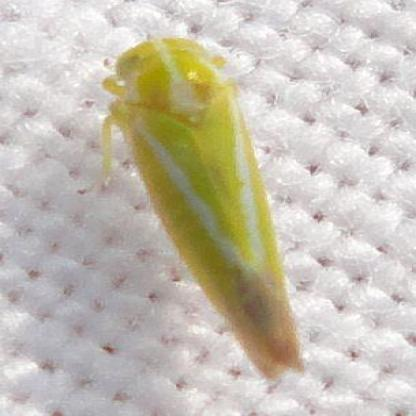green-leafhopper: (99, 39, 304, 378)
